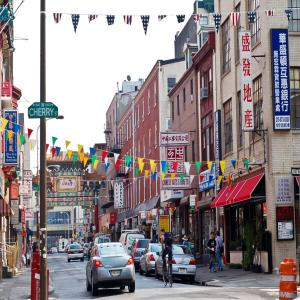Vehicle-registration-plate: (113, 271, 122, 278)
